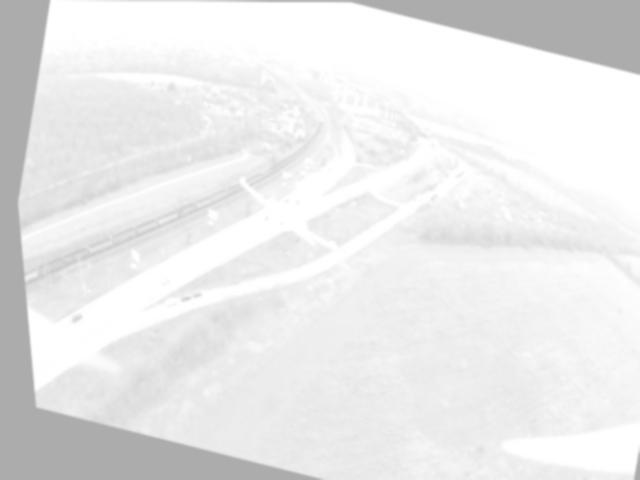hedef: (211, 158, 360, 274)
